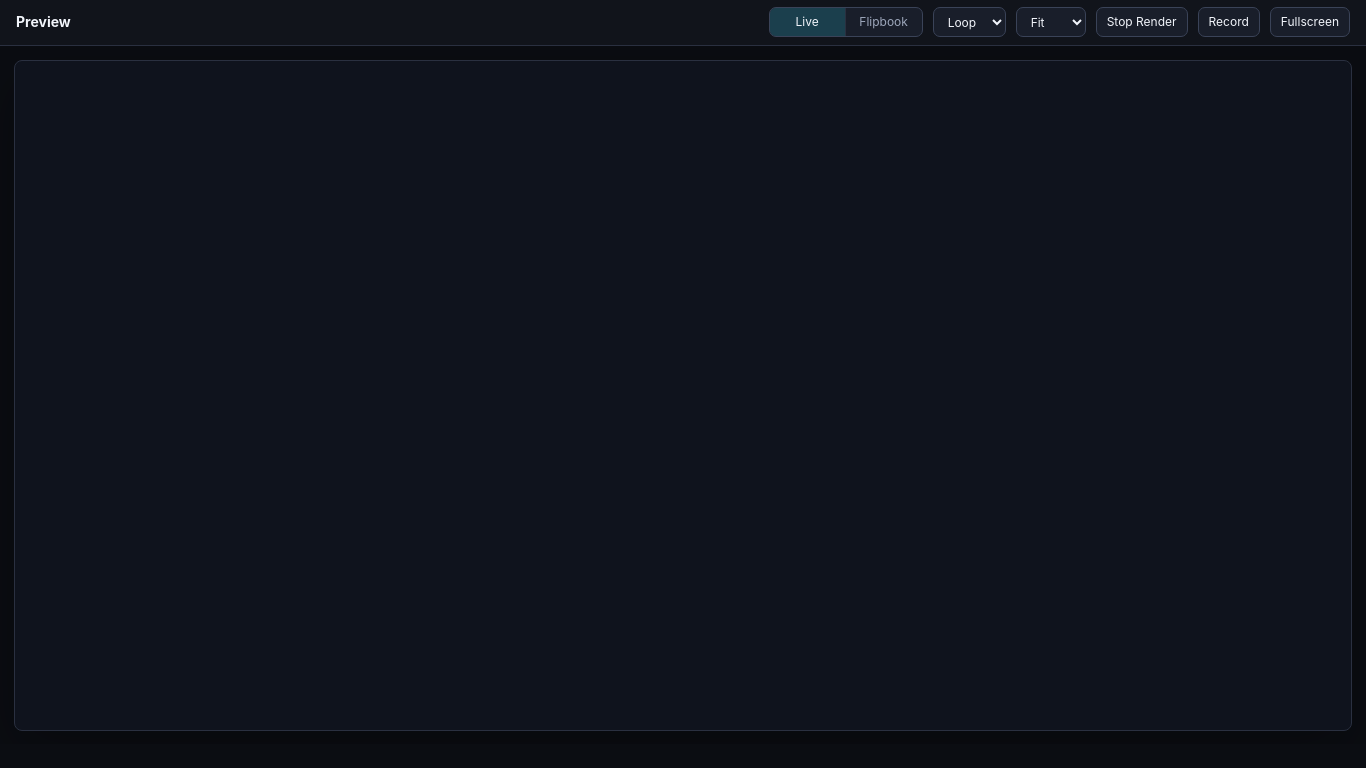
Test case: PreviewPane WebGPU integration › stops the loop and renders a single frame when live playback is set to Once
Expected: the button "Stop Render" is shown, [1096,7,1188,37]
Select "Once" in the dropdown named "Live playback mode" at (969, 22), box [933,7,1006,37]
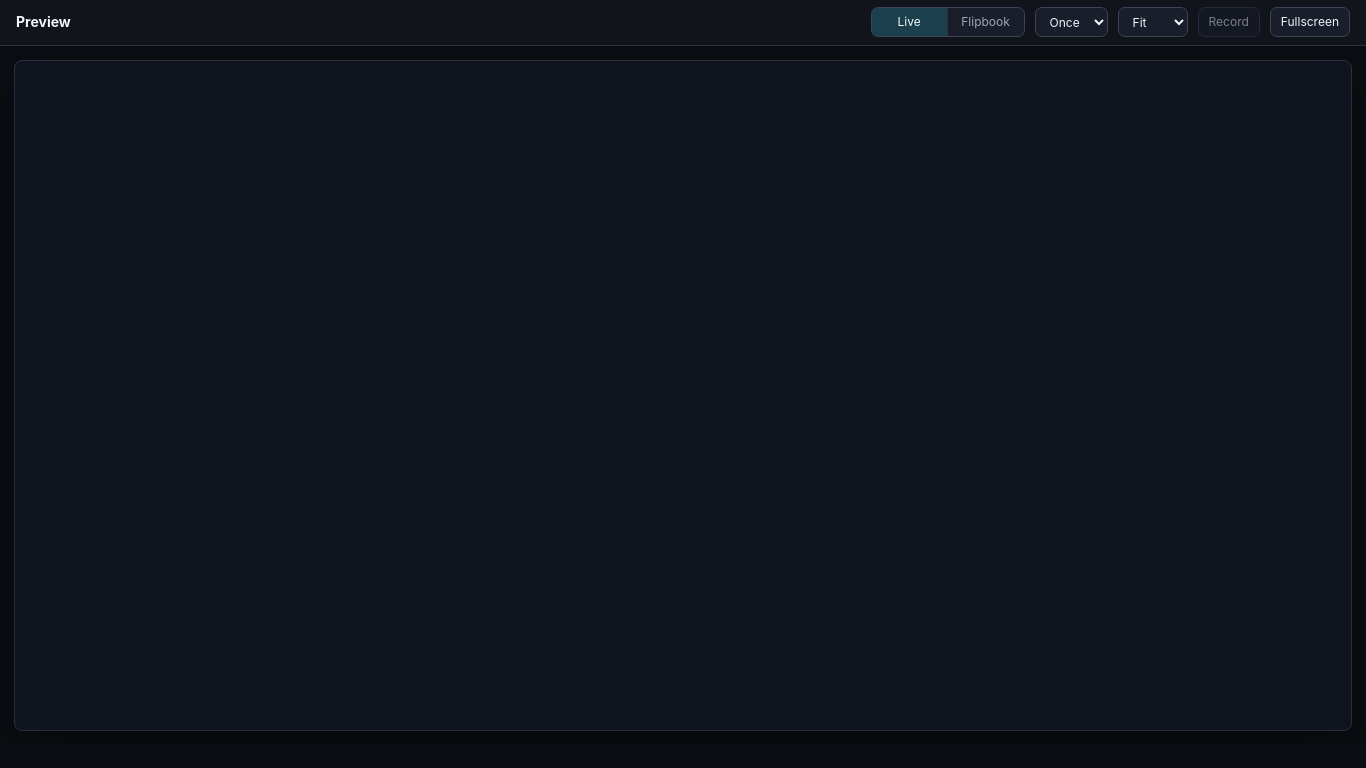
Now the button "Stop Render" is gone
Now the button with aria-label "Start live recording" is disabled, box [1198,7,1260,37]
